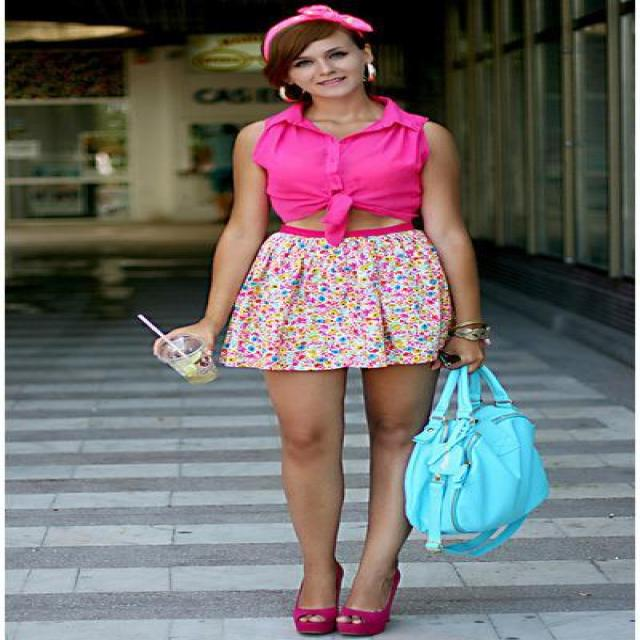bag: (405, 365, 550, 556)
shirt: (253, 100, 429, 240)
shoe: (294, 602, 392, 639)
skirt: (210, 229, 475, 369)
